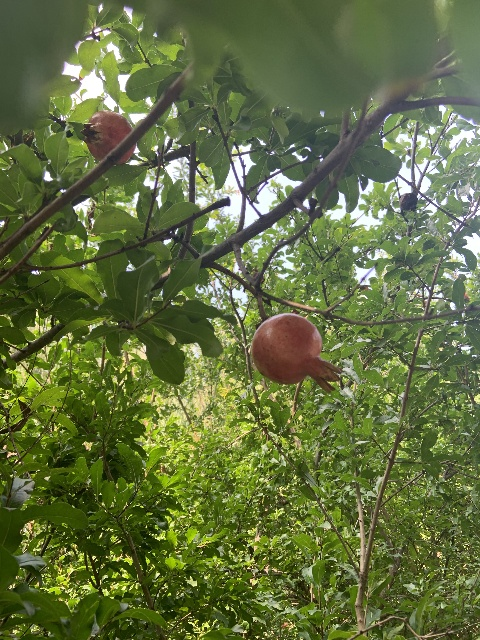ripe: (251, 313, 342, 393), (79, 110, 135, 165)
